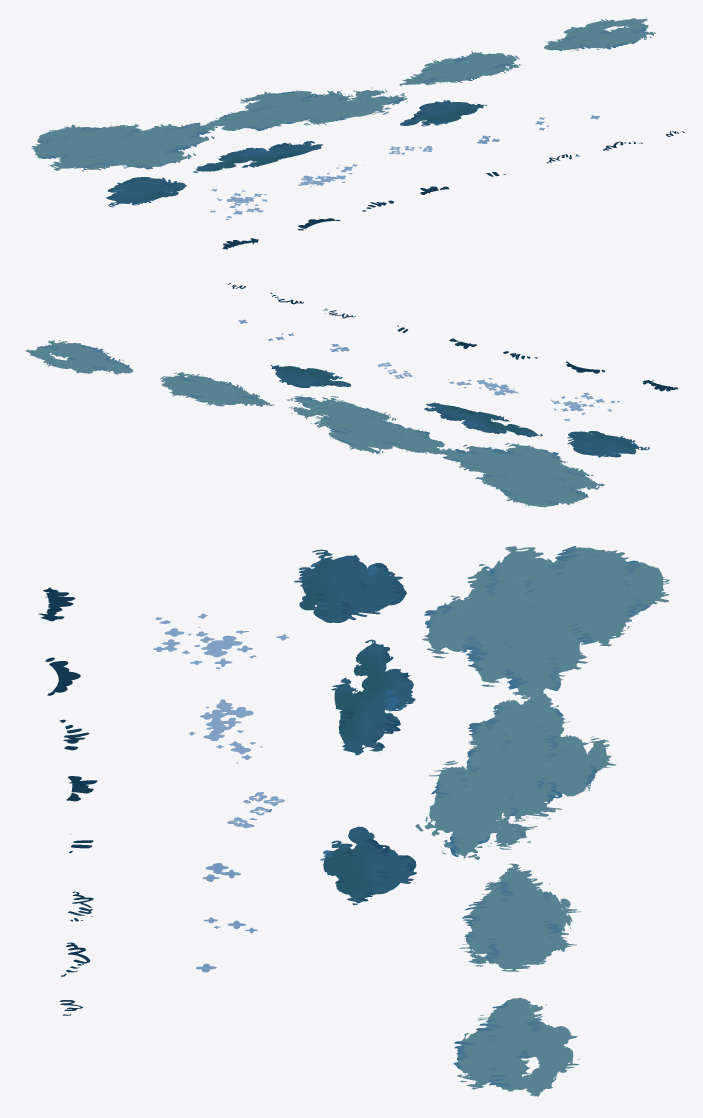
Rendered from env_foliageGround.fbx.
The picture shows the model from 3 angles, top to bottom: view 1: azimuth 30°, elevation 25°; view 2: azimuth 150°, elevation 25°; view 3: azimuth 270°, elevation 25°; orthographic projection. The views are drawn at different scales.
Parts seen in each view (by area): view 1: env_grassPatchLight_1, env_grassPatchLight_2, env_grassPatchLight_3, env_grassPatchLight_4, env_grassPatchDark_2, env_grassPatchDark_1, env_grassPatchDark_3, env_flowerPatch_1, env_flowerPatch_2; view 2: env_grassPatchLight_1, env_grassPatchLight_2, env_grassPatchLight_3, env_grassPatchLight_4, env_grassPatchDark_2, env_grassPatchDark_1, env_grassPatchDark_3, env_flowerPatch_1; view 3: env_grassPatchLight_1, env_grassPatchLight_2, env_grassPatchLight_3, env_grassPatchLight_4, env_grassPatchDark_2, env_grassPatchDark_1, env_grassPatchDark_3, env_flowerPatch_1, env_flowerPatch_2.
Part boxes in pixels (x1,y1,x2,y2): env_grassPatchLight_1: [31, 122, 217, 171]; env_grassPatchLight_2: [205, 87, 407, 130]; env_grassPatchLight_3: [399, 51, 521, 86]; env_grassPatchLight_4: [544, 18, 655, 51]; env_grassPatchDark_2: [193, 141, 322, 172]; env_grassPatchDark_1: [105, 177, 186, 207]; env_grassPatchDark_3: [400, 100, 486, 126]; env_flowerPatch_1: [210, 189, 267, 219]; env_flowerPatch_2: [298, 164, 363, 186]; env_grassPatchLight_1: [441, 443, 604, 507]; env_grassPatchLight_2: [286, 394, 444, 454]; env_grassPatchLight_3: [160, 372, 274, 406]; env_grassPatchLight_4: [25, 340, 132, 375]; env_grassPatchDark_2: [424, 402, 542, 437]; env_grassPatchDark_1: [567, 431, 649, 457]; env_grassPatchDark_3: [270, 365, 351, 387]; env_flowerPatch_1: [551, 392, 619, 421]; env_grassPatchLight_1: [422, 546, 669, 698]; env_grassPatchLight_2: [415, 691, 616, 859]; env_grassPatchLight_3: [459, 863, 581, 971]; env_grassPatchLight_4: [453, 997, 580, 1096]; env_grassPatchDark_2: [331, 639, 415, 755]; env_grassPatchDark_1: [294, 549, 406, 622]; env_grassPatchDark_3: [320, 826, 416, 905]; env_flowerPatch_1: [153, 613, 289, 669]; env_flowerPatch_2: [189, 699, 262, 763].
Size of the model in its own units: 1291 by 9.09e-13 by 655.
Materials: 1 (1 with a texture image).
